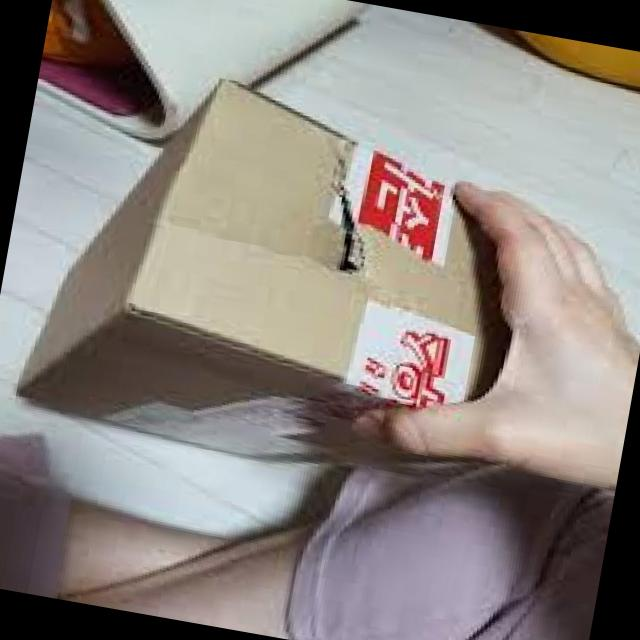box: (27, 83, 503, 464)
tear: (316, 134, 371, 274)
